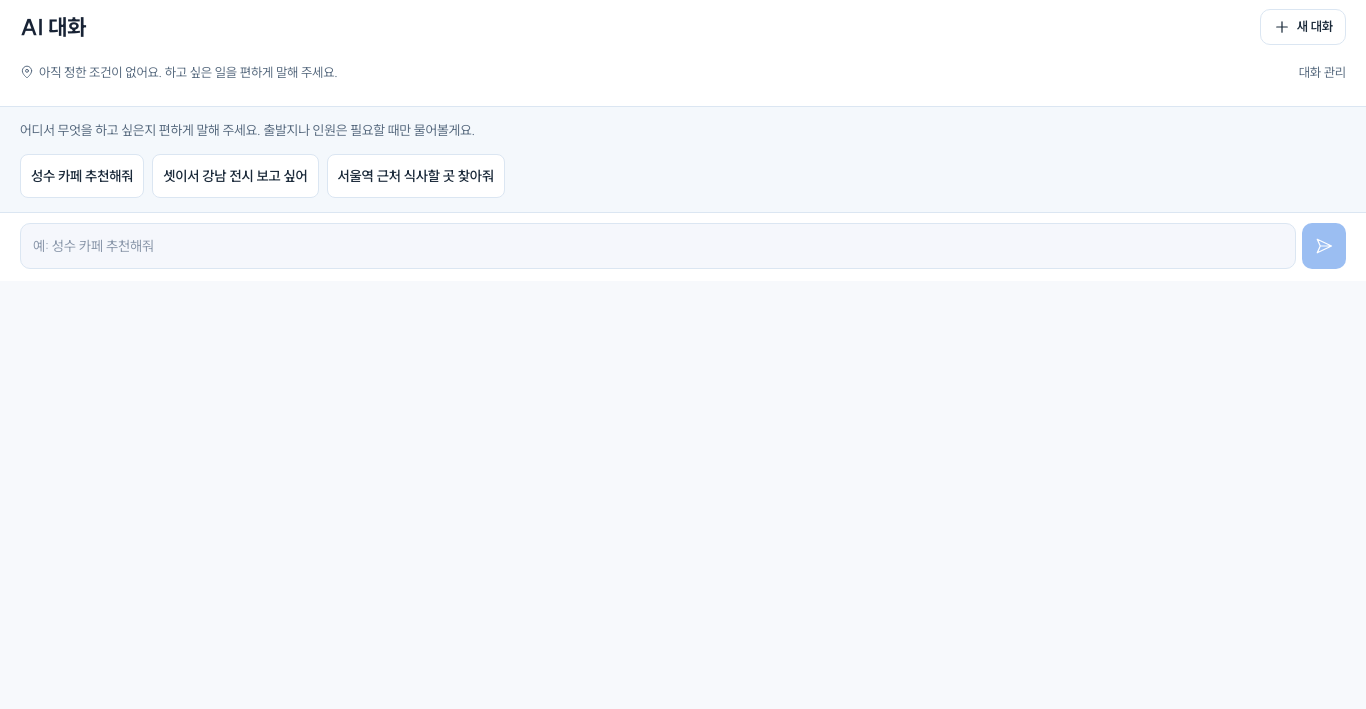
ChatPanel › 서버 선택지(출발지 후보)를 누르면 action으로 바로 실행하고 질문을 답변 완료로 바꾼다
The width and height of the screenshot is (1366, 709).
Type "성수 카페 추천해줘" into the field named "AI에게 보낼 메시지". click: [658, 246]
box: x1=20 y1=223 x2=1296 y2=269
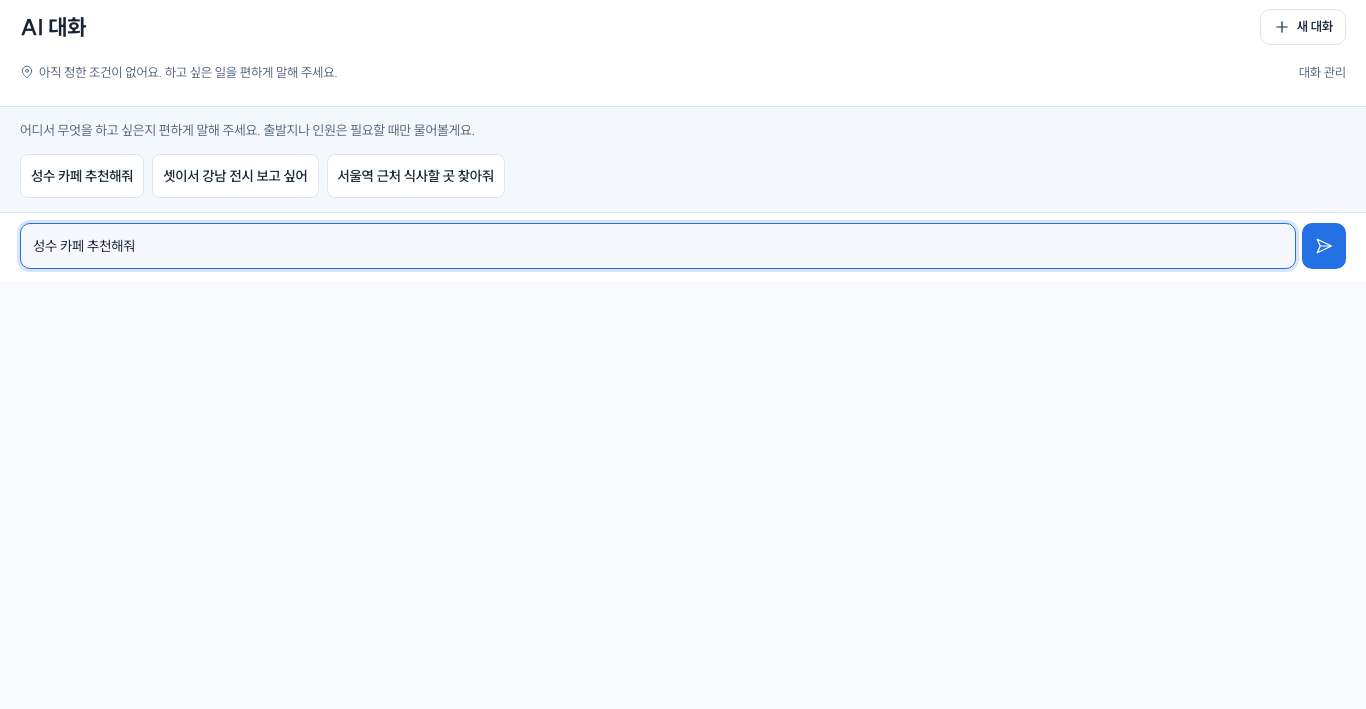
Click the button named "보내기". click: [1324, 246]
box: x1=1302 y1=223 x2=1346 y2=269
(page scrolled)
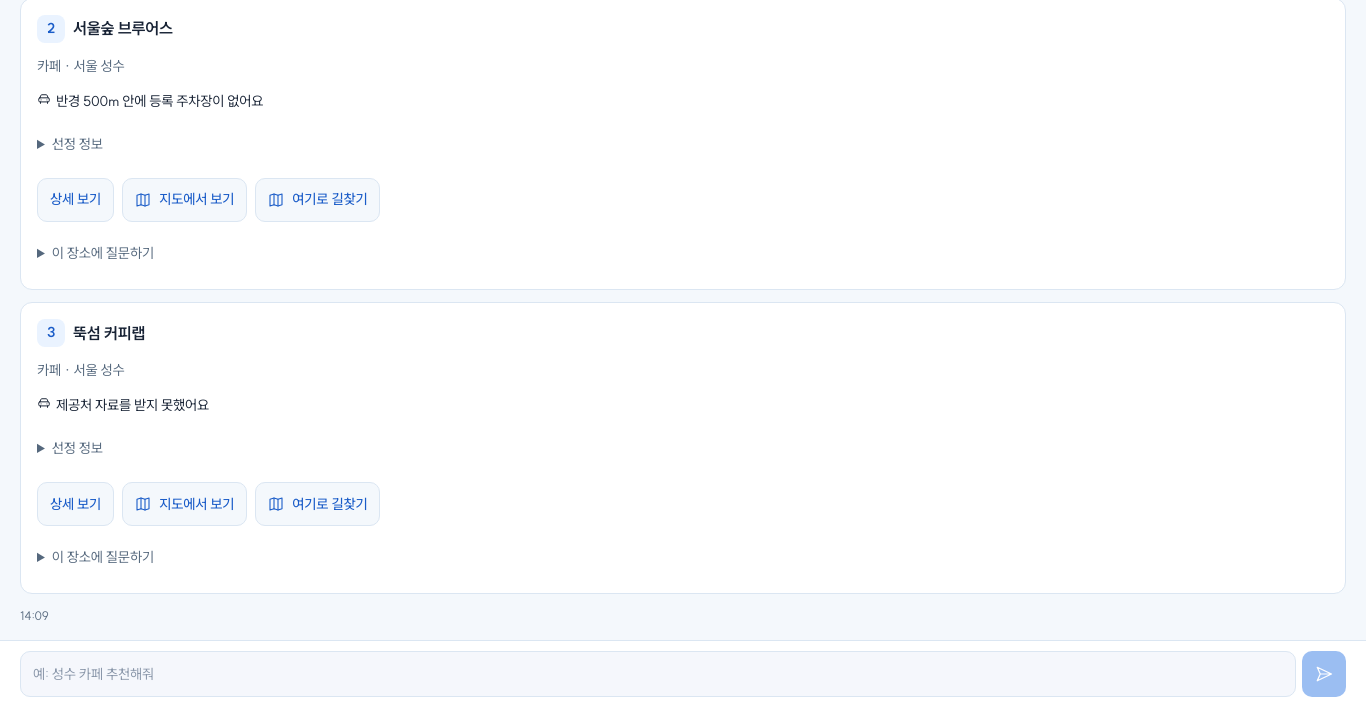
Type "여기까지 얼마나 걸려?" into the field named "AI에게 보낼 메시지". click: [658, 674]
box: x1=20 y1=651 x2=1296 y2=697
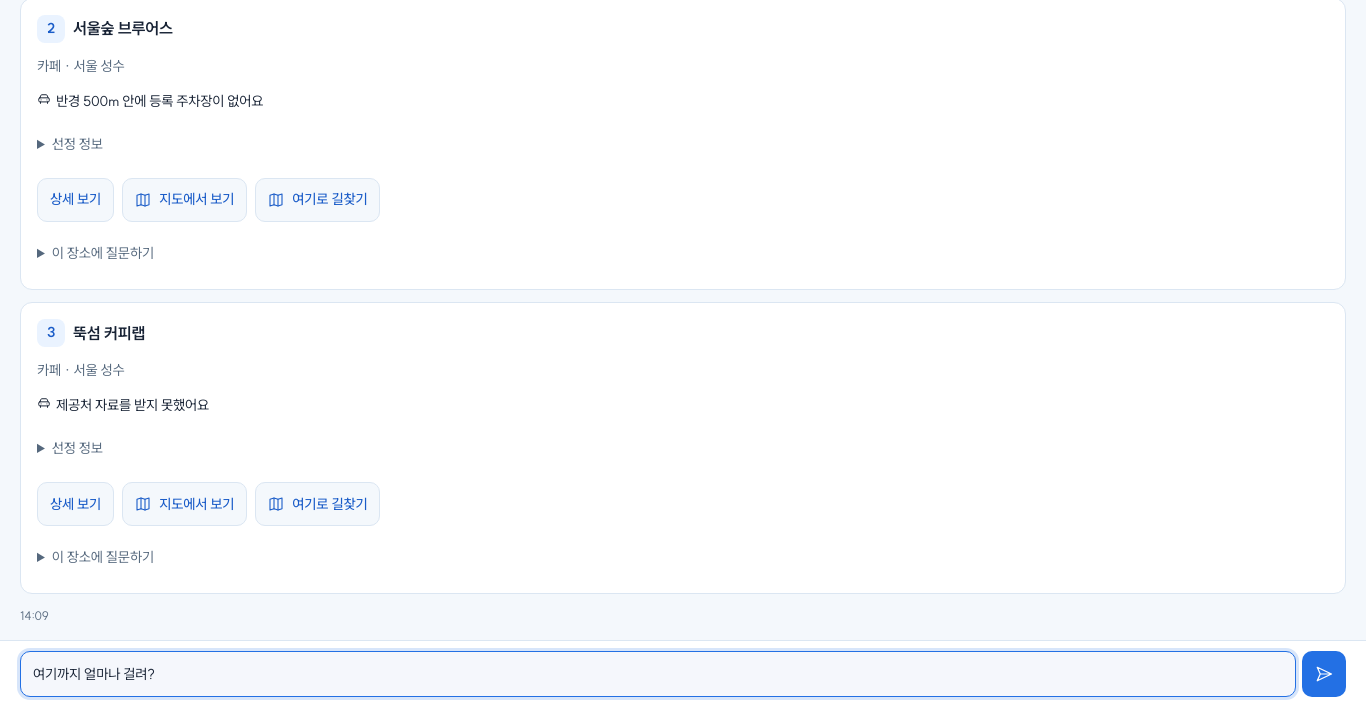
Click the button named "보내기". click: [1324, 674]
box: x1=1302 y1=651 x2=1346 y2=697
(page scrolled)
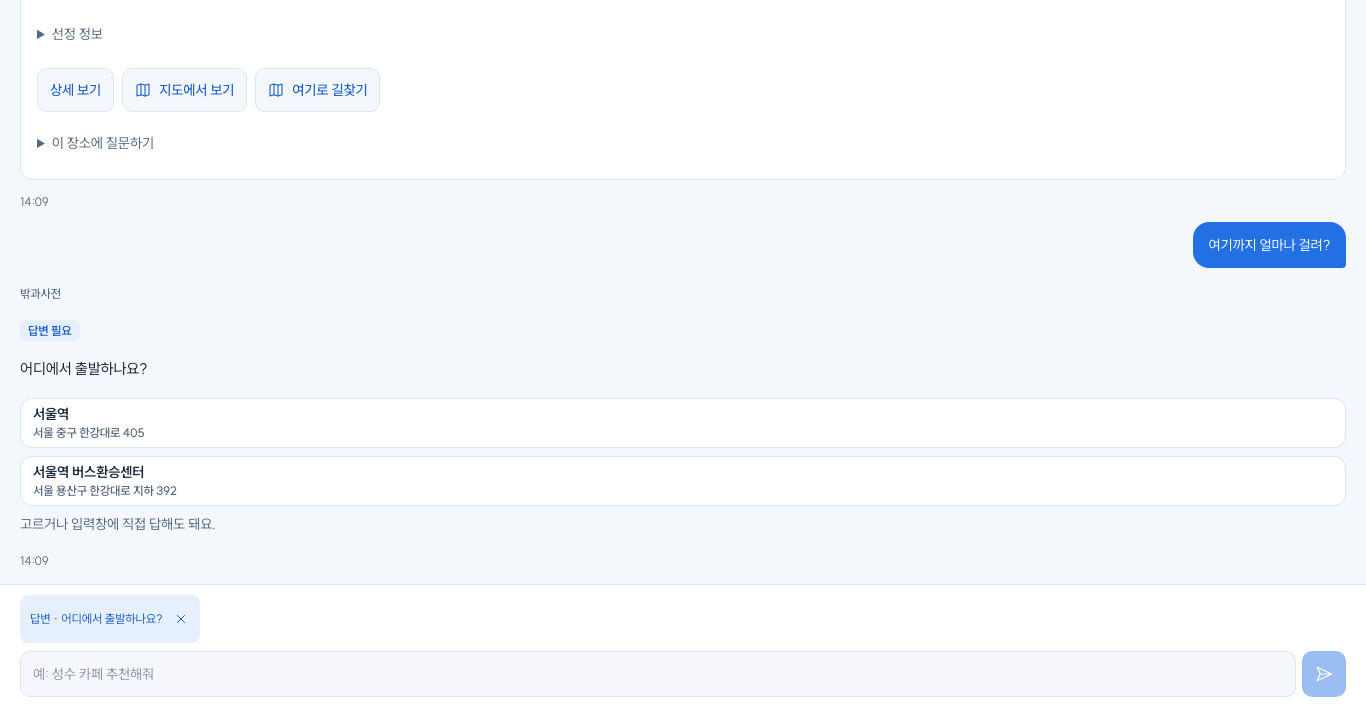
Result: the text "서울 용산구 한강대로 지하 392" is shown at x1=33 y1=483 x2=177 y2=499
Click the button "서울역 버스환승센터 서울 용산구 한강대로 지하 392". click: [89, 472]
box: x1=20 y1=456 x2=1346 y2=506
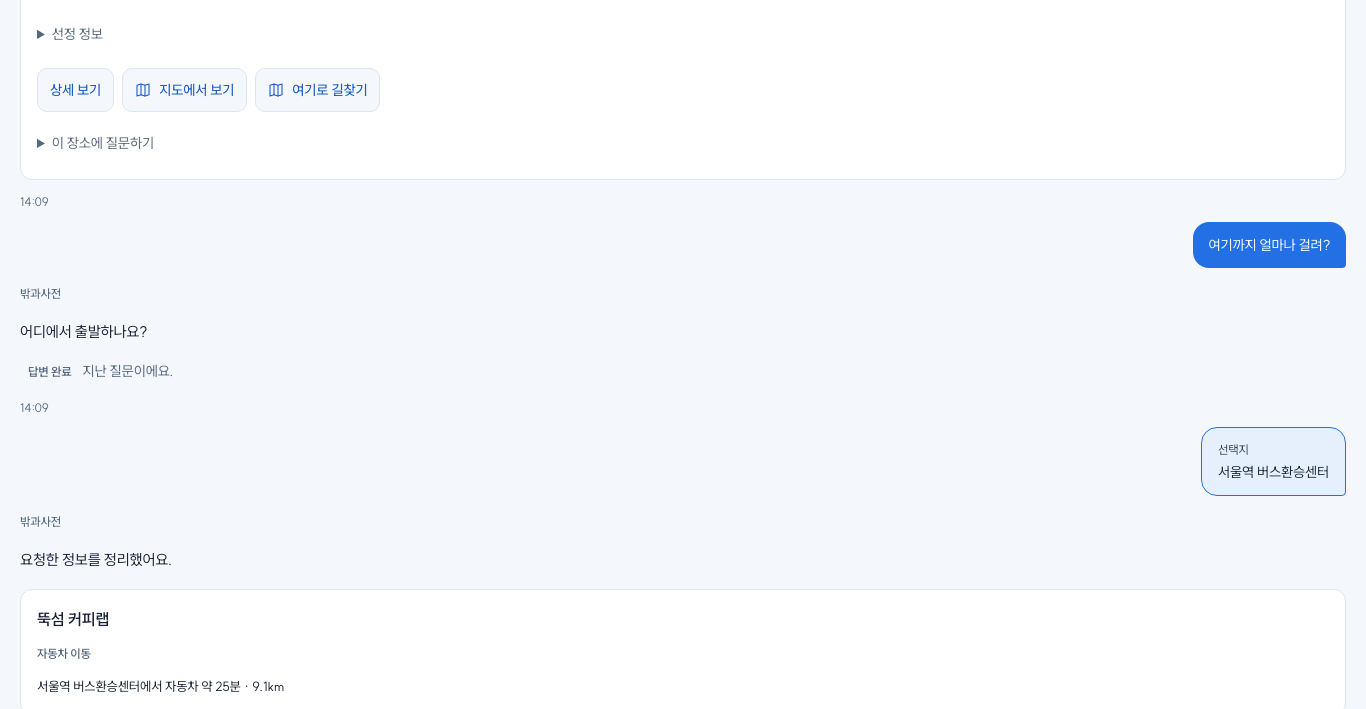
Result: the text "서울역 버스환승센터에서 자동차 약 25분 · 9.1km" is shown at x1=37 y1=678 x2=284 y2=694
Result: the text "선택지" is shown at x1=1218 y1=442 x2=1249 y2=457
Result: the text "답변 완료" is shown at x1=20 y1=360 x2=80 y2=382
